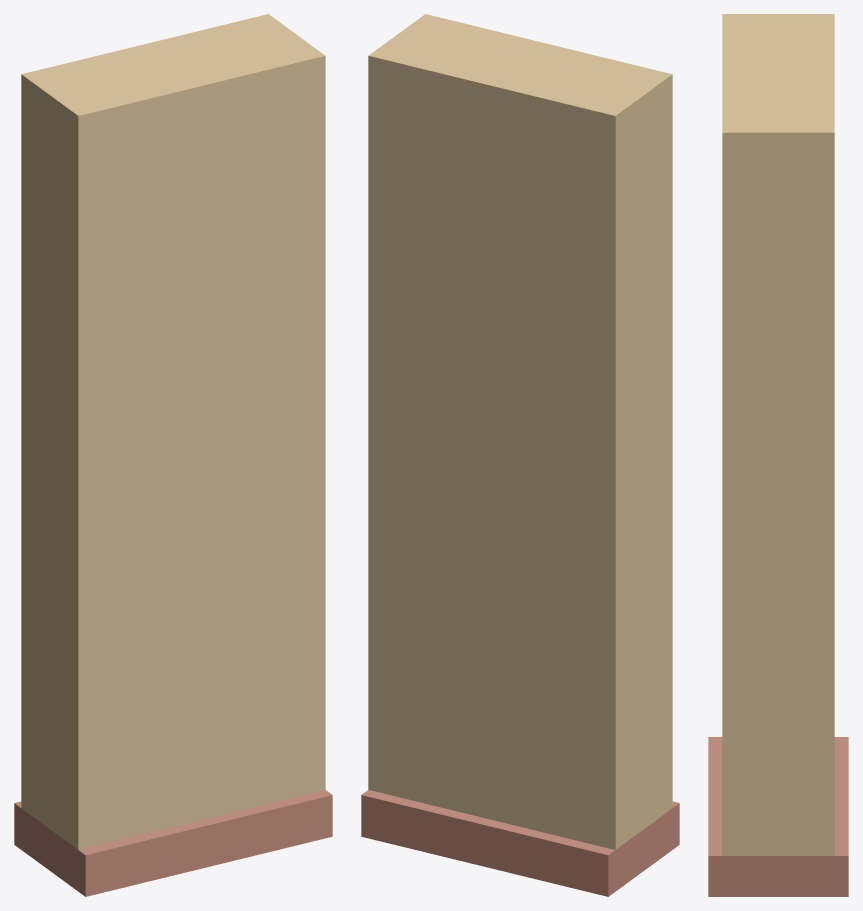
The model's file is Wall_Standar.glb.
The picture shows the model from 3 angles, left to right: view 1: azimuth 30°, elevation 25°; view 2: azimuth 150°, elevation 25°; view 3: azimuth 270°, elevation 25°; orthographic projection.
Parts seen in each view (by area): view 1: Wall_Normal; view 2: Wall_Normal; view 3: Wall_Normal.
Boxes of the visible parts, x1=… form: Wall_Normal: x1=14, y1=14, x2=332, y2=896; Wall_Normal: x1=361, y1=14, x2=679, y2=896; Wall_Normal: x1=708, y1=14, x2=848, y2=896.
Size of the model in its own units: 1 by 3 by 0.5.
